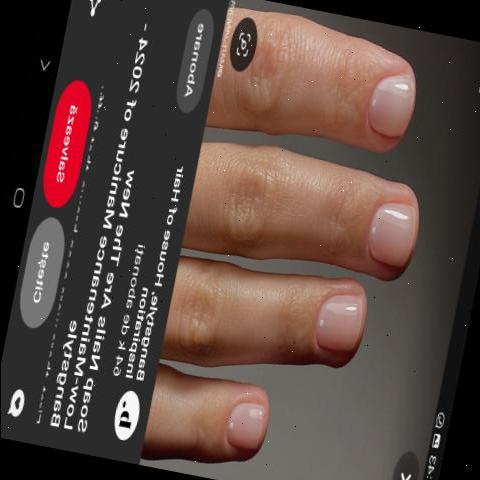Hands: (148, 0, 426, 480)
